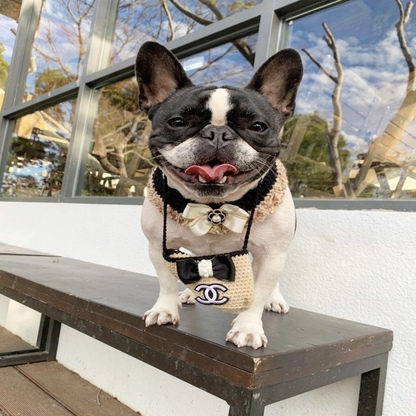bulldog: (134, 39, 307, 352)
